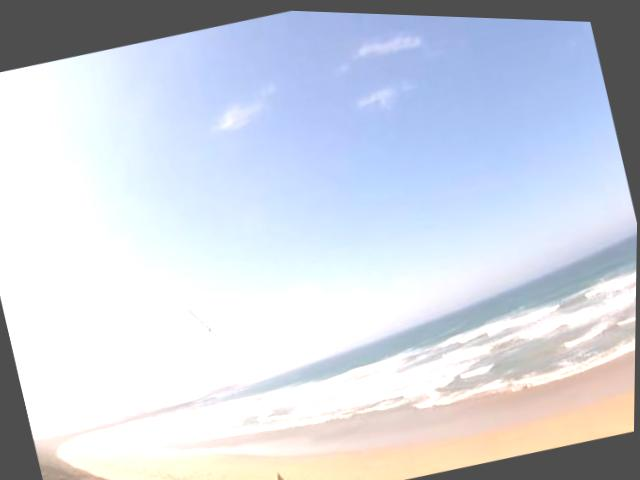uav: (183, 295, 237, 357)
